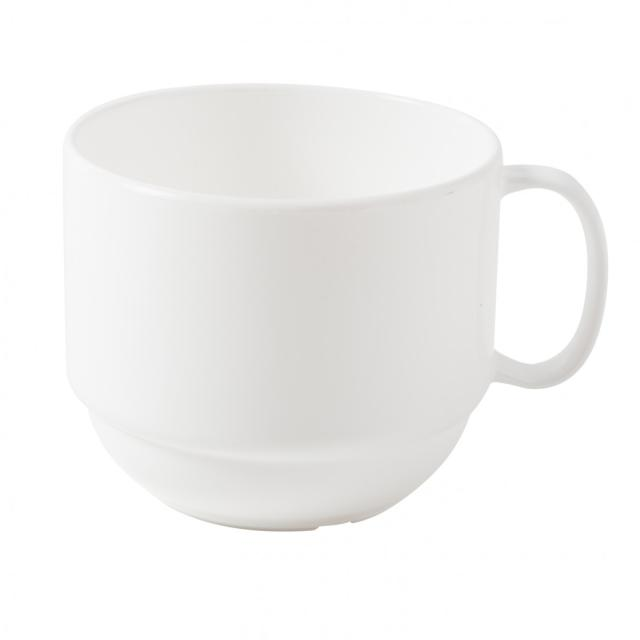Cup: (58, 82, 610, 535)
